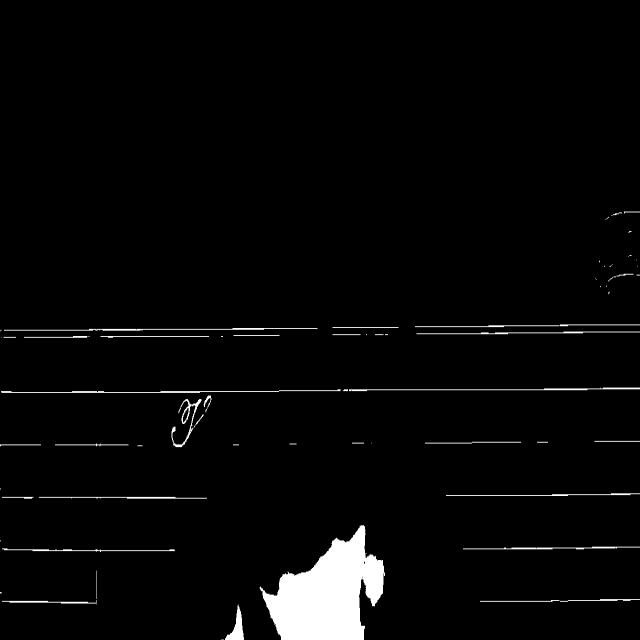hand: (263, 526, 384, 639), (225, 605, 242, 639)
noise: (0, 385, 640, 395), (0, 327, 318, 338), (414, 323, 640, 334), (0, 546, 175, 555), (0, 494, 207, 501), (480, 596, 640, 604), (462, 545, 640, 551), (446, 492, 640, 497), (422, 440, 551, 446), (0, 442, 142, 447), (331, 326, 400, 336), (2, 599, 96, 604), (590, 439, 640, 444), (288, 442, 300, 446), (232, 442, 240, 446), (352, 443, 364, 444)
not-noise: (171, 395, 212, 447)
page-marker: (596, 211, 640, 291)
